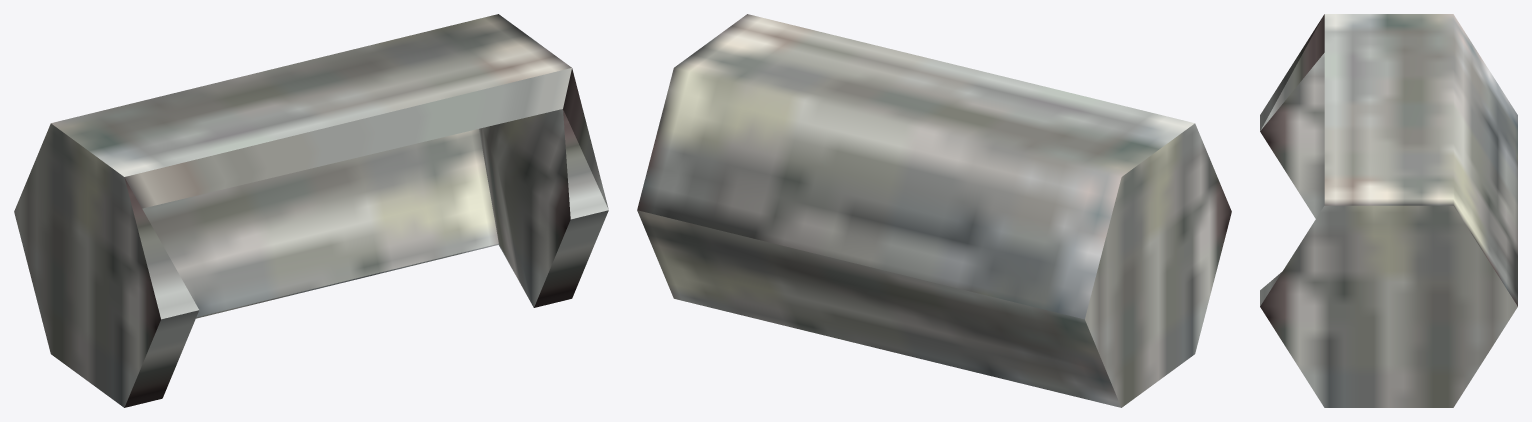
The model's file is Shared - Armor - Tanker Truck - Damage State 09 - CVTanker_d09.glb.
3 views of the same model, side by side, from view 1: azimuth 30°, elevation 25°; view 2: azimuth 150°, elevation 25°; view 3: azimuth 270°, elevation 25° (orthographic). The views are drawn at different scales.
Visible parts, largest first — view 1: CVTANKER_D09; view 2: CVTANKER_D09; view 3: CVTANKER_D09.
Part boxes in pixels (box(x1,y1,x2,y2)): CVTANKER_D09: box(14, 14, 608, 407); CVTANKER_D09: box(637, 14, 1231, 407); CVTANKER_D09: box(1260, 14, 1517, 407).
Size of the model in its own units: 6.12 by 3.01 by 3.48.
1 material, 1 textured.
